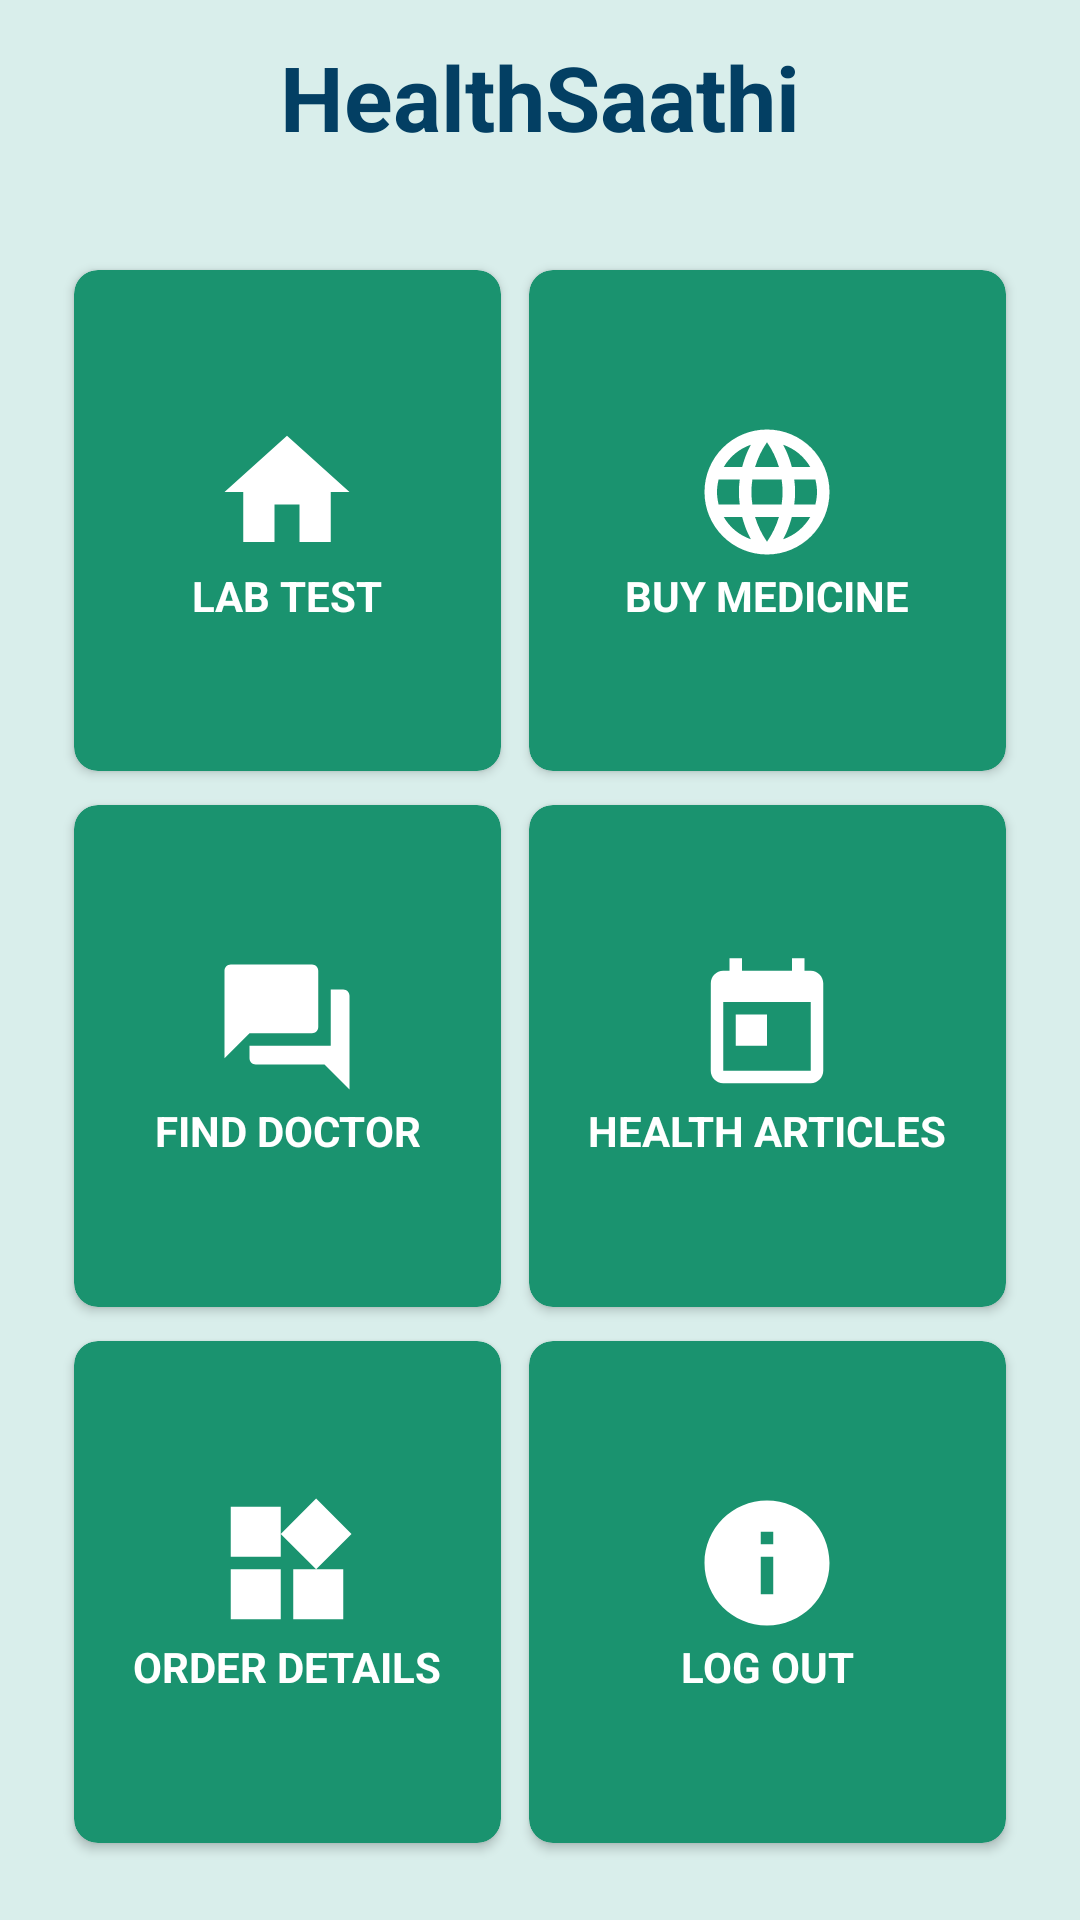

Screen size 1080x1920. Icon name, then its box in pixels as (x1, y1, x2, y2):
calendar: (710, 958, 824, 1084)
chat: (224, 964, 350, 1090)
home: (225, 436, 349, 542)
info: (704, 1500, 830, 1626)
language: (704, 429, 830, 555)
widgets: (230, 1498, 352, 1620)
